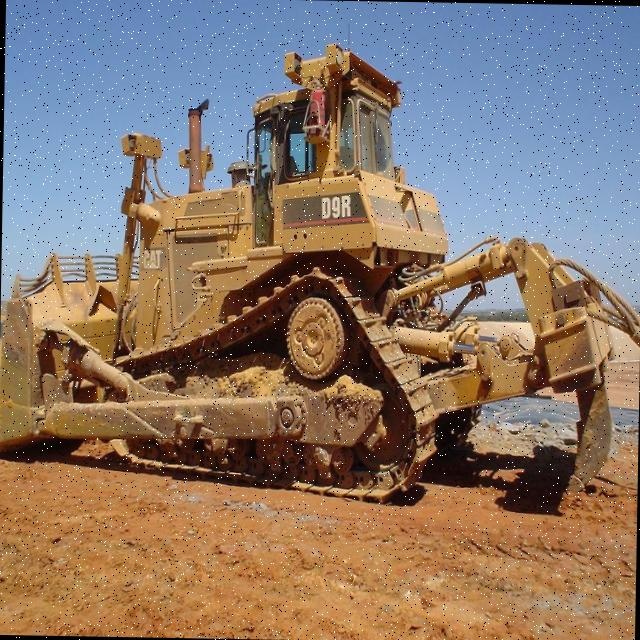Bulldozer: (0, 34, 625, 532)
